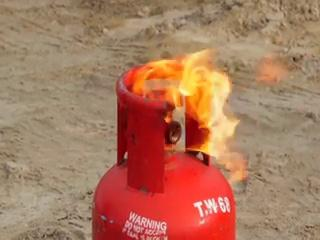Fire: (126, 18, 270, 174)
